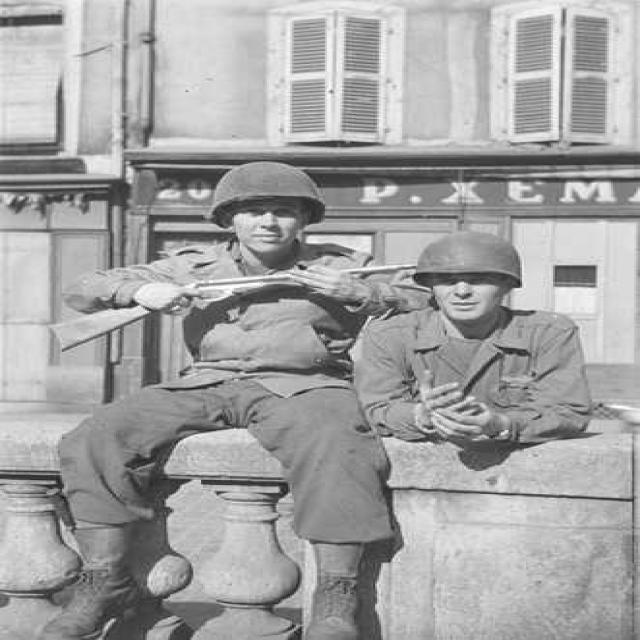weapon: (39, 254, 434, 362)
